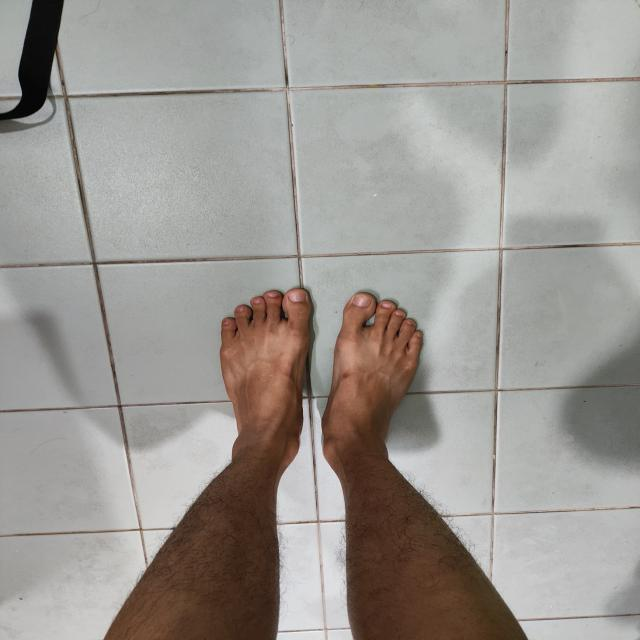No_Shoes: (190, 283, 322, 455), (313, 287, 432, 459)
